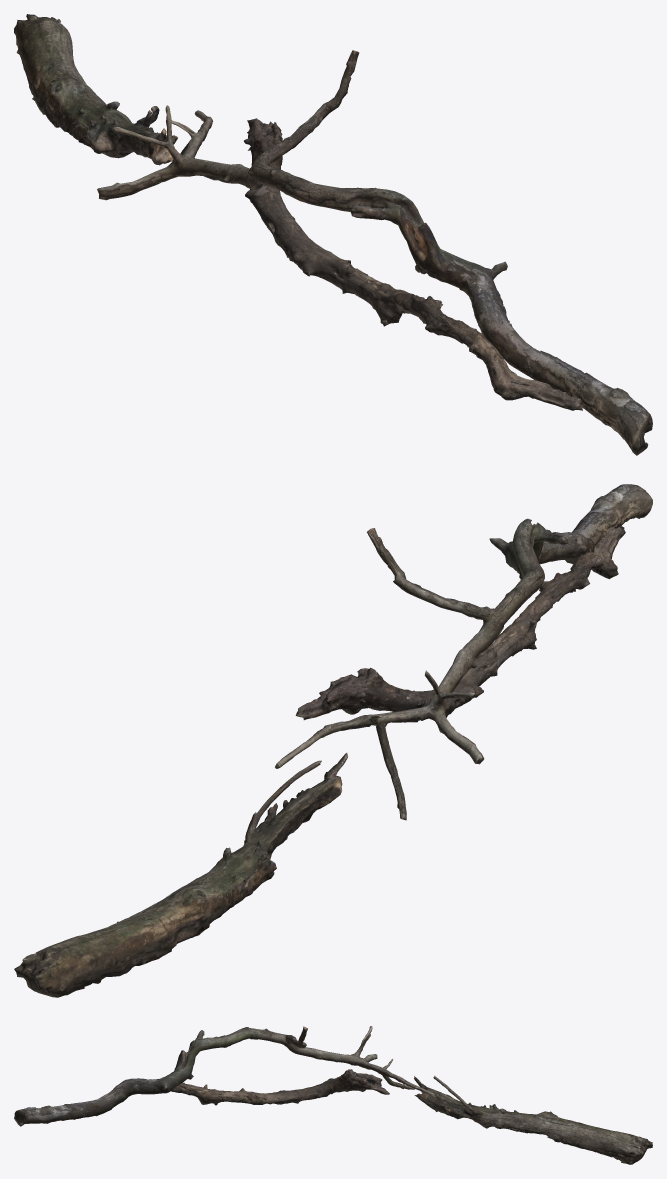
The model's file is branches-transformed.glb.
3 views of the same model, one above another, from view 1: azimuth 30°, elevation 25°; view 2: azimuth 150°, elevation 25°; view 3: azimuth 270°, elevation 25° (orthographic). The views are drawn at different scales.
Parts seen in each view (by area): view 1: dry_branches_medium_01_c; view 2: dry_branches_medium_01_c; view 3: dry_branches_medium_01_c.
Part boxes in pixels (left/top/right/bottom): dry_branches_medium_01_c: left=14, top=14, right=652, bottom=455; dry_branches_medium_01_c: left=14, top=484, right=652, bottom=997; dry_branches_medium_01_c: left=14, top=1026, right=652, bottom=1164.
Size of the model in its own units: 0.4182 by 0.4579 by 1.99.
1 material, 1 textured.
